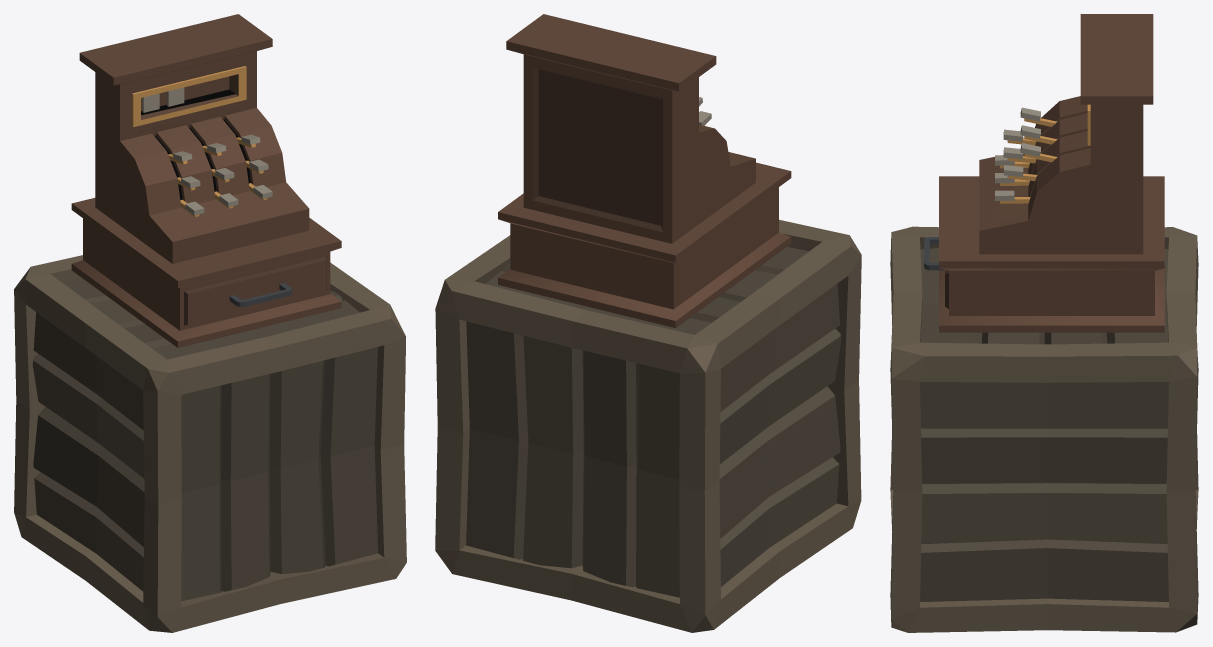
The model's file is donation.glb.
3 views of the same model, side by side, from view 1: azimuth 30°, elevation 25°; view 2: azimuth 150°, elevation 25°; view 3: azimuth 270°, elevation 25° (orthographic). The views are drawn at different scales.
Parts seen in each view (by area): view 1: SM_Prop_Crate_01, SM_Prop_Cash_Register_01; view 2: SM_Prop_Crate_01, SM_Prop_Cash_Register_01; view 3: SM_Prop_Crate_01, SM_Prop_Cash_Register_01.
Part boxes in pixels (<box>): SM_Prop_Crate_01: <box>14,255,406,632</box>; SM_Prop_Cash_Register_01: <box>71,14,341,347</box>; SM_Prop_Crate_01: <box>435,219,861,632</box>; SM_Prop_Cash_Register_01: <box>498,14,791,328</box>; SM_Prop_Crate_01: <box>890,226,1198,632</box>; SM_Prop_Cash_Register_01: <box>924,14,1164,332</box>.
Bounding box in the file's own units: 1.05 × 1.93 × 1.05.
Materials: 1 (1 with a texture image).
